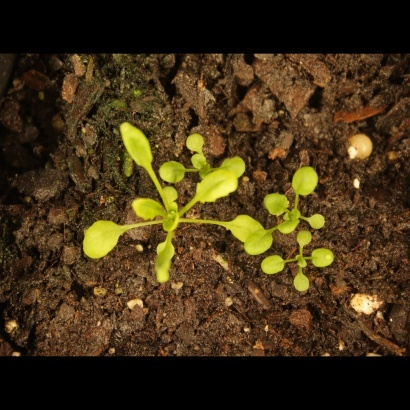leaf: (76, 214, 129, 264), (113, 117, 156, 172), (193, 167, 239, 204), (216, 213, 265, 245), (151, 236, 180, 290), (287, 161, 320, 200), (157, 156, 188, 187), (132, 195, 165, 224), (244, 229, 278, 257), (260, 189, 291, 219), (311, 246, 340, 271), (220, 154, 249, 179), (258, 255, 288, 278), (183, 132, 207, 155), (291, 272, 314, 295), (294, 229, 317, 252), (304, 208, 327, 231), (189, 152, 212, 175)
